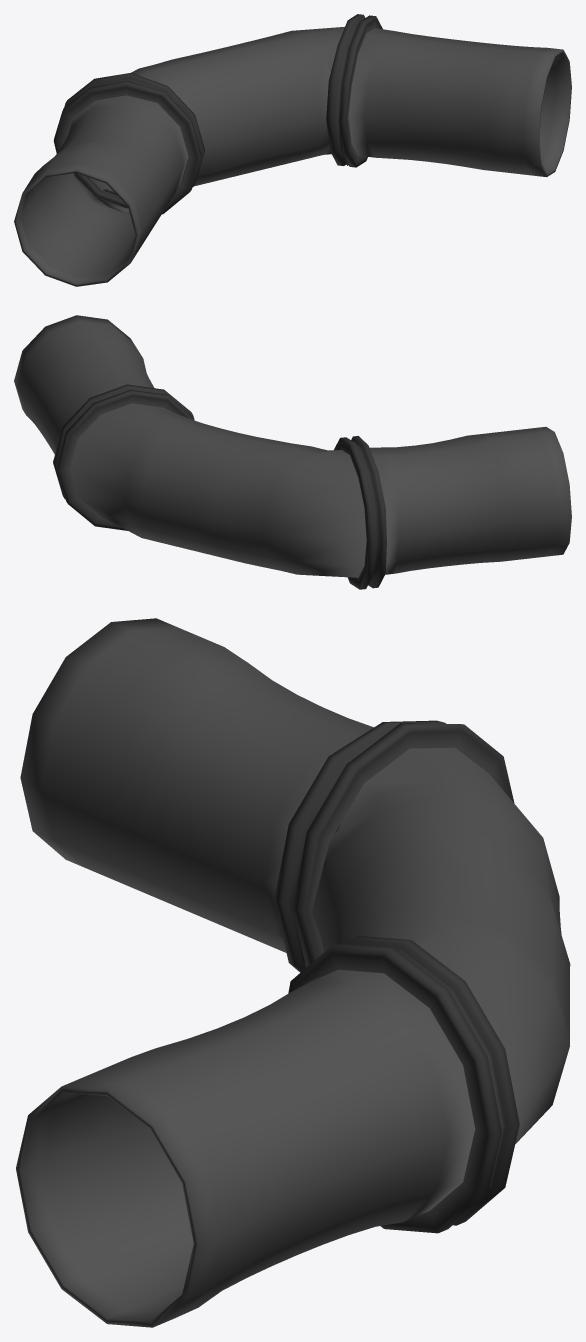
File: FoodTube.fbx
3 views of the same model, one above another, from view 1: azimuth 30°, elevation 25°; view 2: azimuth 150°, elevation 25°; view 3: azimuth 270°, elevation 25° (orthographic). The views are drawn at different scales.
Parts seen in each view (by area): view 1: heater_pipe_90g; view 2: heater_pipe_90g; view 3: heater_pipe_90g.
Part boxes in pixels (x1,y1,x2,y2): heater_pipe_90g: [14, 14, 571, 286]; heater_pipe_90g: [14, 315, 571, 589]; heater_pipe_90g: [16, 618, 570, 1327].
Size of the model in its own units: 199 by 47.74 by 85.9.
1 material, 1 textured.
